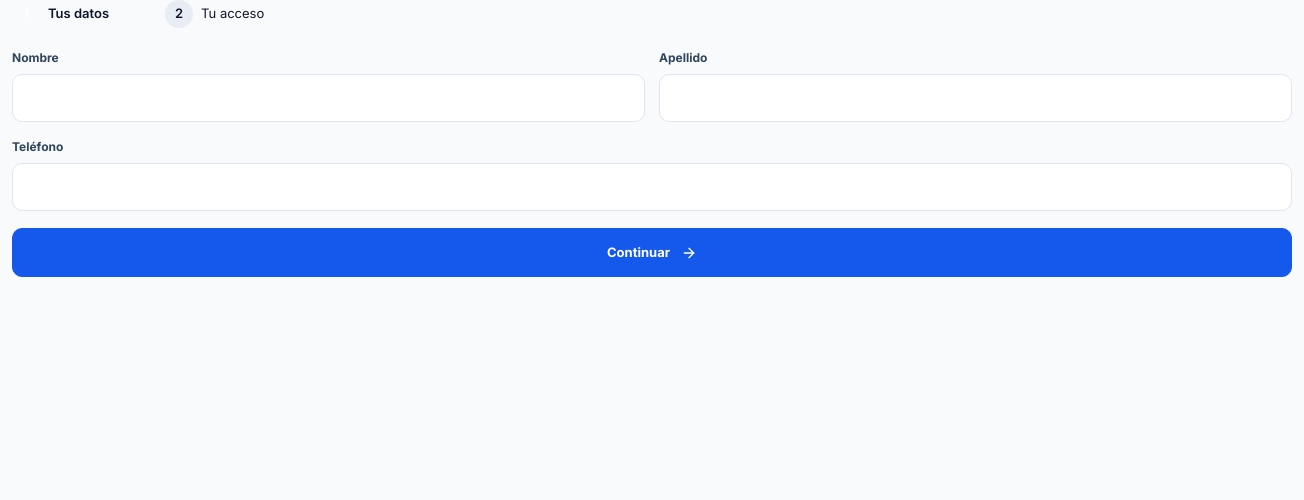
Test: customer account UI › starts with personal information and does not register while continuing
Check: the list named "Pasos para crear tu cuenta" is shown, box [23, 0, 264, 28]
Check: the button "Crear mi cuenta" is not shown
Type "Ana" into the field labelled "Nombre" at [328, 98], box [12, 74, 645, 122]
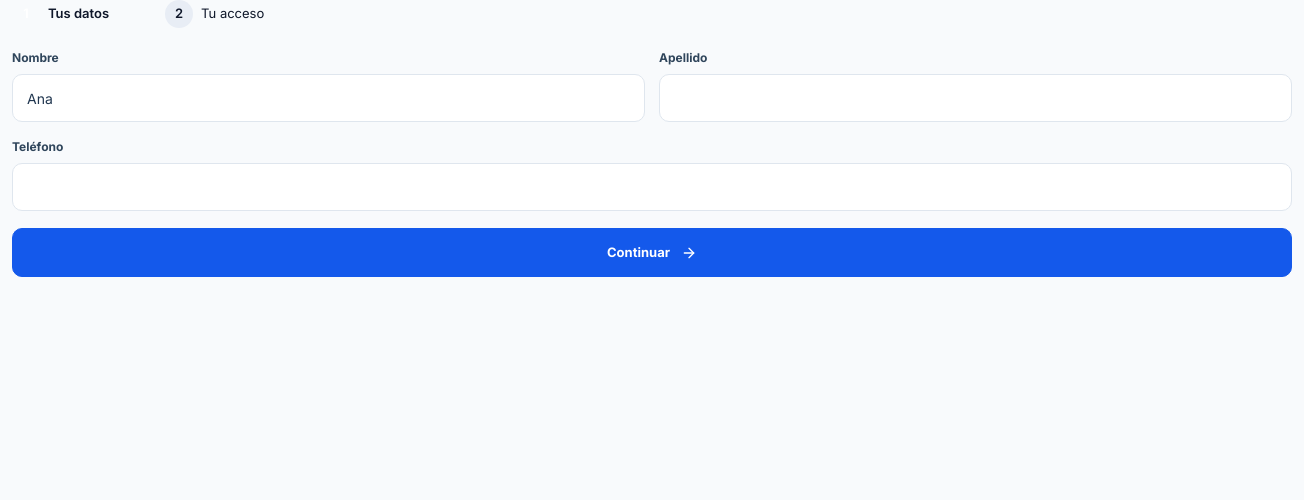
Type "Pérez" into the field labelled "Apellido" at [976, 98], box [659, 74, 1292, 122]
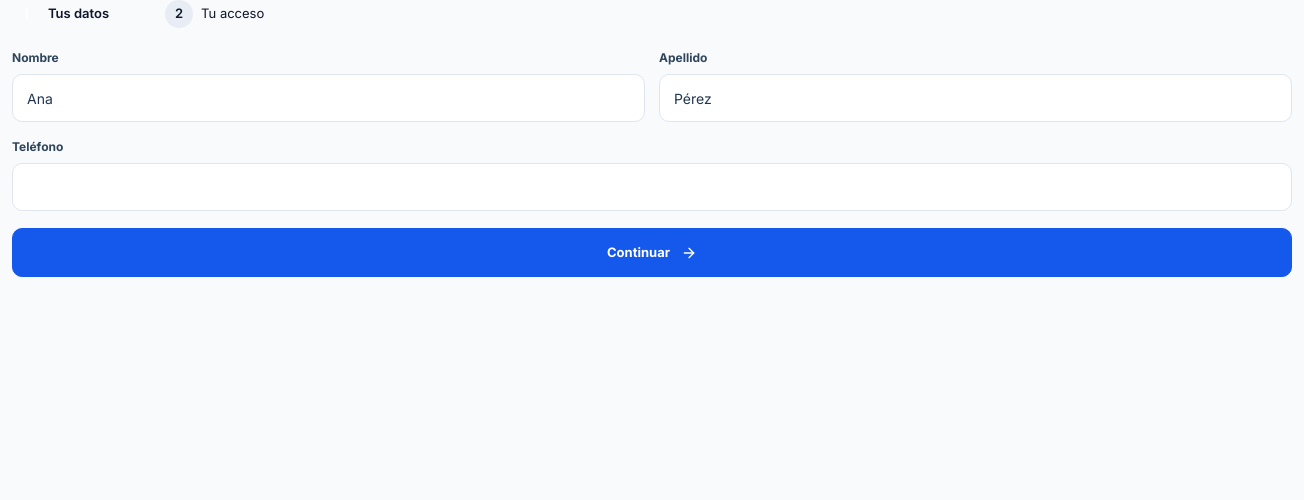
Type "+54 11 5555 1234" into the field labelled "Teléfono" at [652, 187], box [12, 163, 1292, 211]
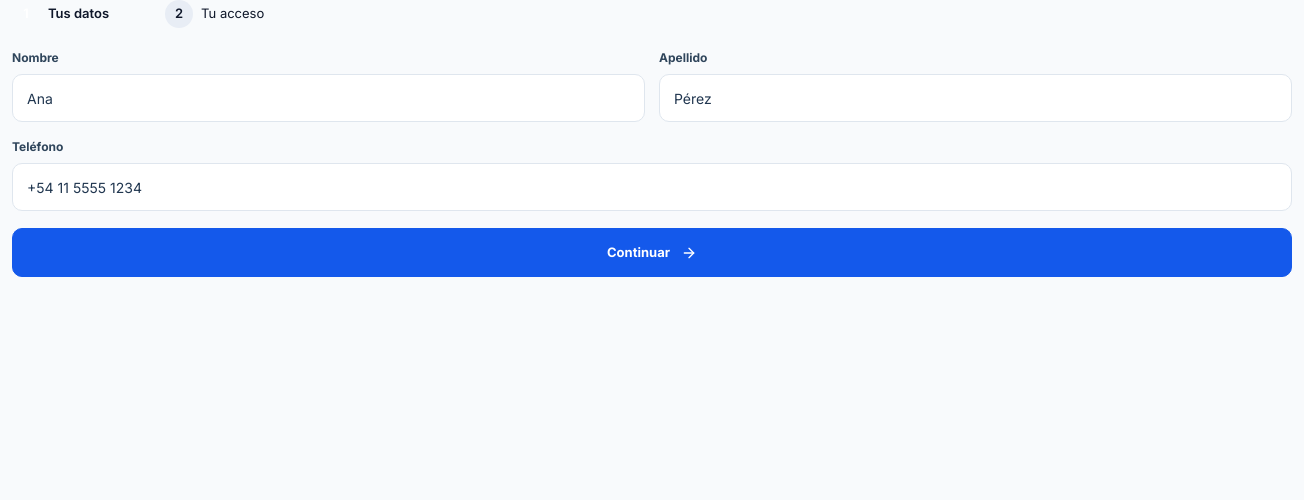
Click the button "Continuar" at [652, 252], box [12, 228, 1292, 277]
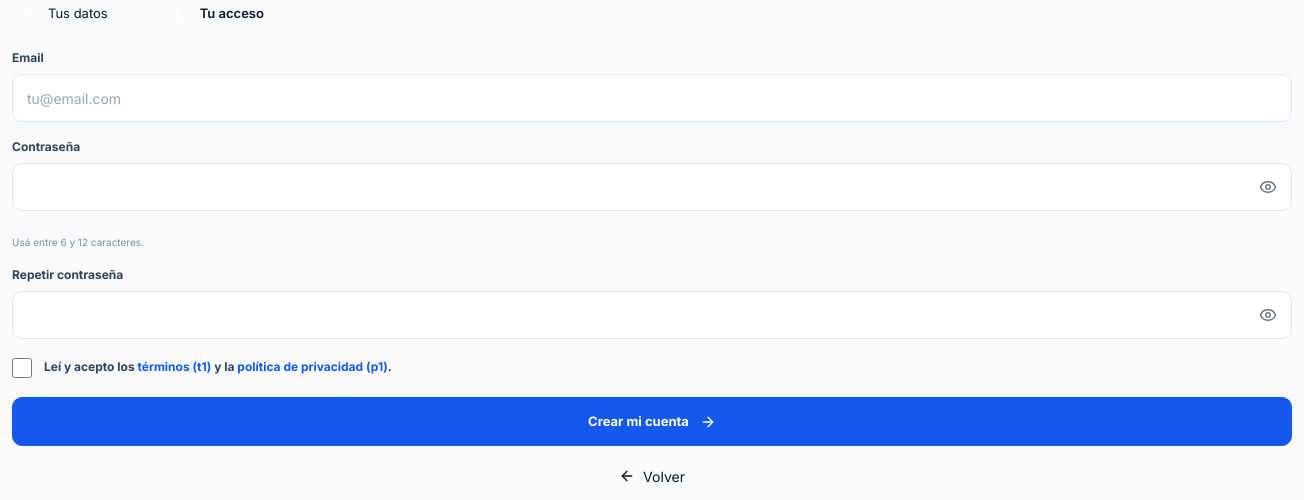
Check: the button "Crear mi cuenta" is shown, box [12, 397, 1292, 446]
